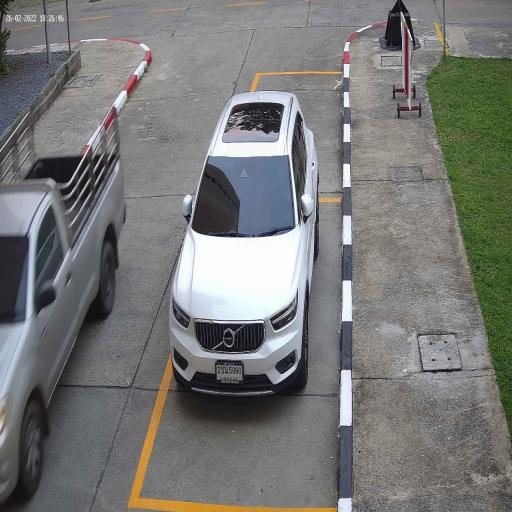car: (0, 106, 127, 508), (168, 90, 321, 406)
